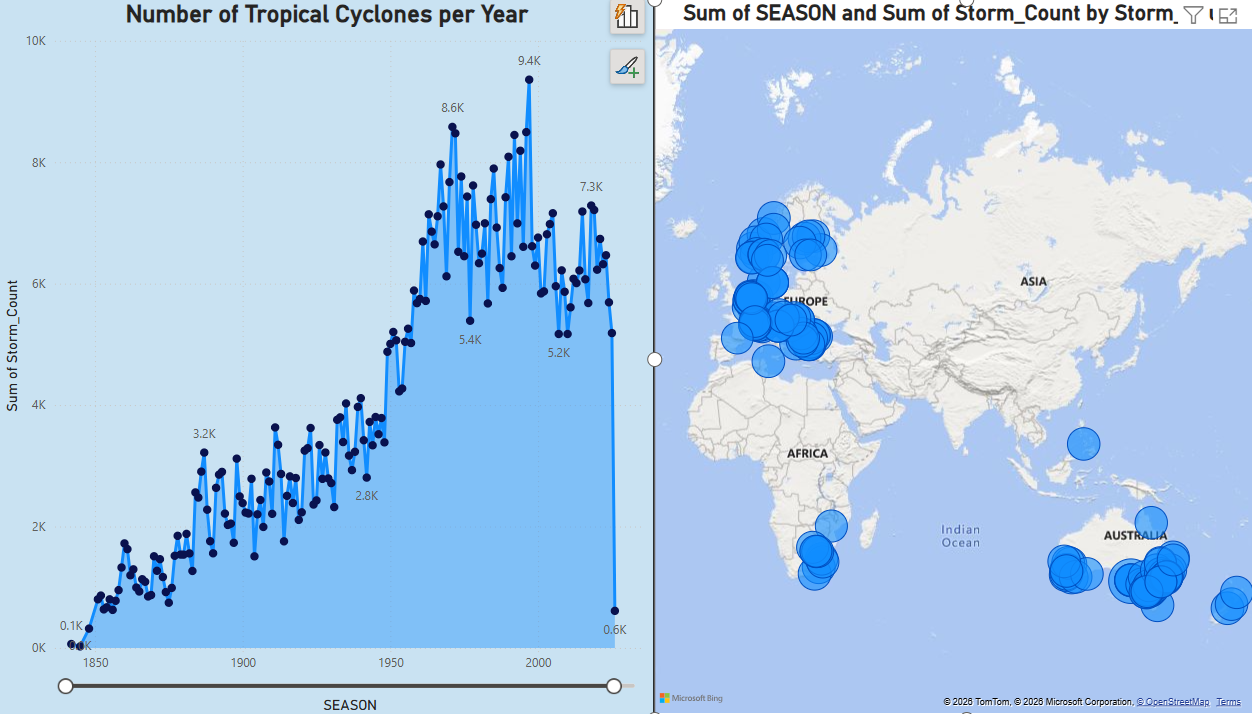

What the dashboard file says about the page in this screenshot:
{"tool":"powerbi","page":{"name":"Page 1","canvas":[1280,720],"ordinal":0},"visuals":[{"type":"lineChart","title":"Number of Tropical Cyclones per Year","fields":{"Category":["storms_per_year.SEASON"],"Y":["Sum(storms_per_year.Storm_Count)"]},"box":[0,0,656,720],"z":0},{"type":"map","fields":{"Category":["storms_per_year.Storm_Count"],"Size":["Sum(storms_per_year.SEASON)"]},"box":[656,0,624,720],"z":1000}]}

Visuals, with their boxes in screenshot pixels (x1, y1, x2, y2), scaled from the page's 1280x720 canvas onto the 1252x714 screenshot:
"Number of Tropical Cyclones per Year" lineChart: (left=0, top=0, right=642, bottom=713)
map - storms_per_year.Storm_Count x Sum(storms_per_year.SEASON): (left=642, top=0, right=1251, bottom=713)
